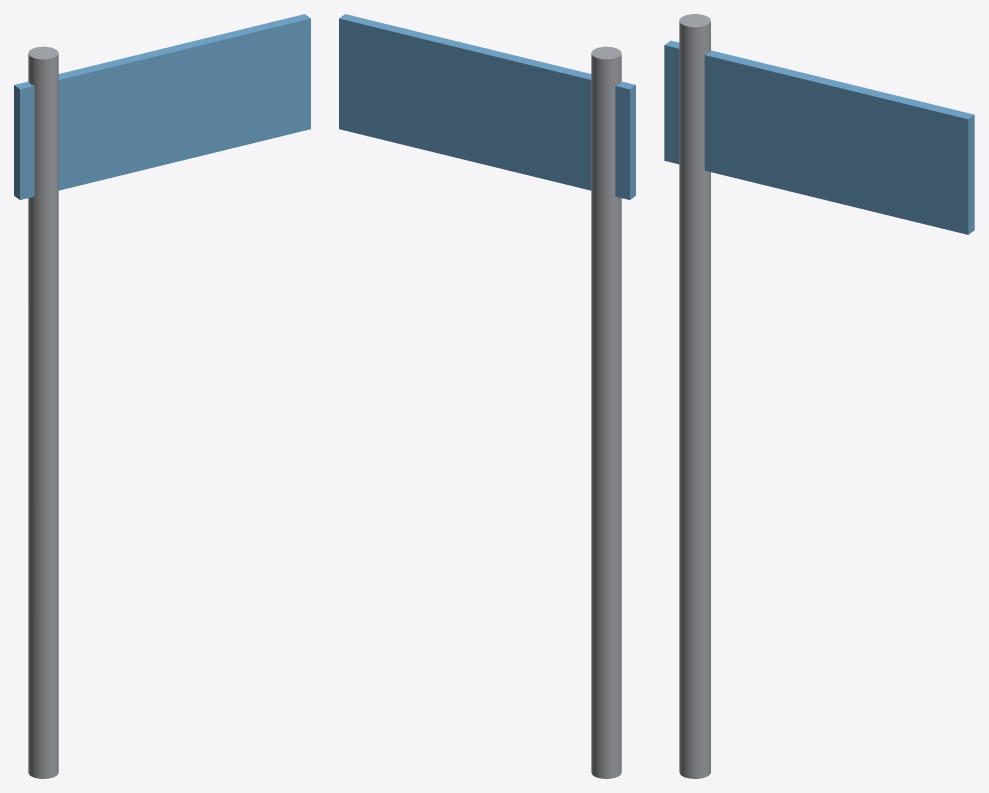
Rendered from DirectionalSign.glb.
3 renders of one model, left to right at view 1: azimuth 30°, elevation 25°; view 2: azimuth 150°, elevation 25°; view 3: azimuth 330°, elevation 25°, orthographic. The views are drawn at different scales.
Parts seen in each view (by area): view 1: model; view 2: model; view 3: model.
Boxes of the visible parts, bbox=[...] form: model: bbox=[14, 14, 310, 778]; model: bbox=[339, 14, 635, 778]; model: bbox=[664, 14, 974, 778].
Size of the model in its own units: 1.1 by 2.6 by 0.0975.
